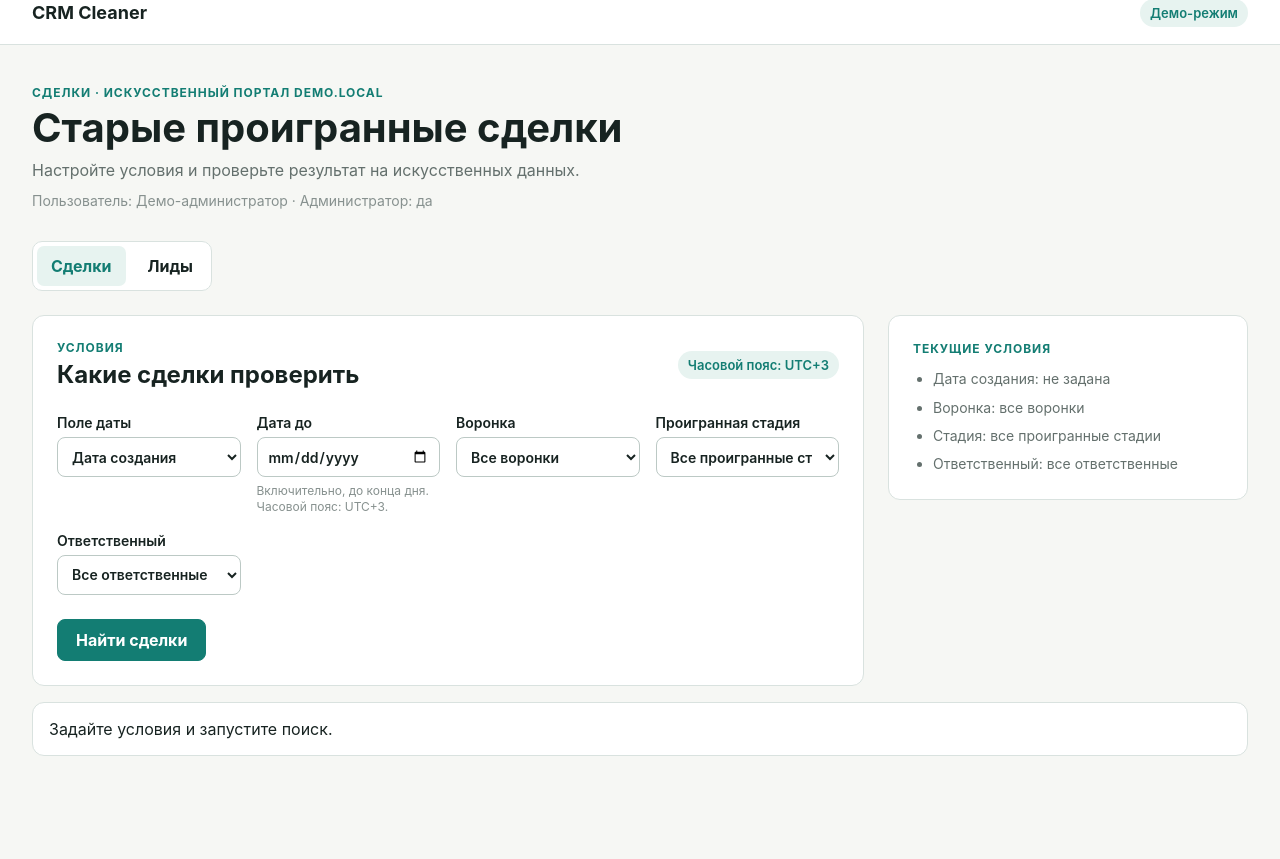
Scenario: local operation flow › search → exclusion → confirmation → result keeps excluded deal
The image size is (1280, 859).
Type "2026-01-31" into the date field labelled "Дата до" at (348, 457), box [256,437,440,477]
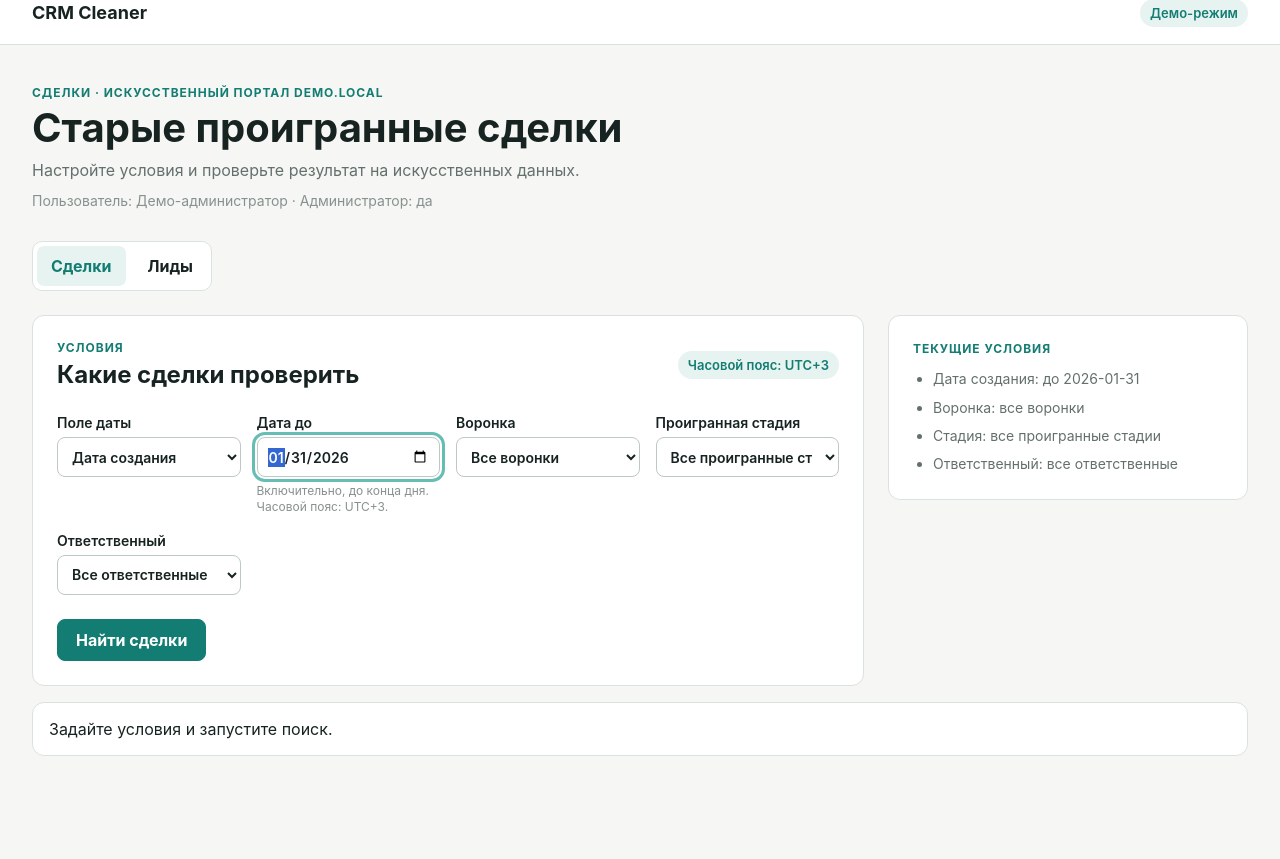
Click the button "Найти сделки" at (132, 640), box [57,619,206,661]
(page scrolled)
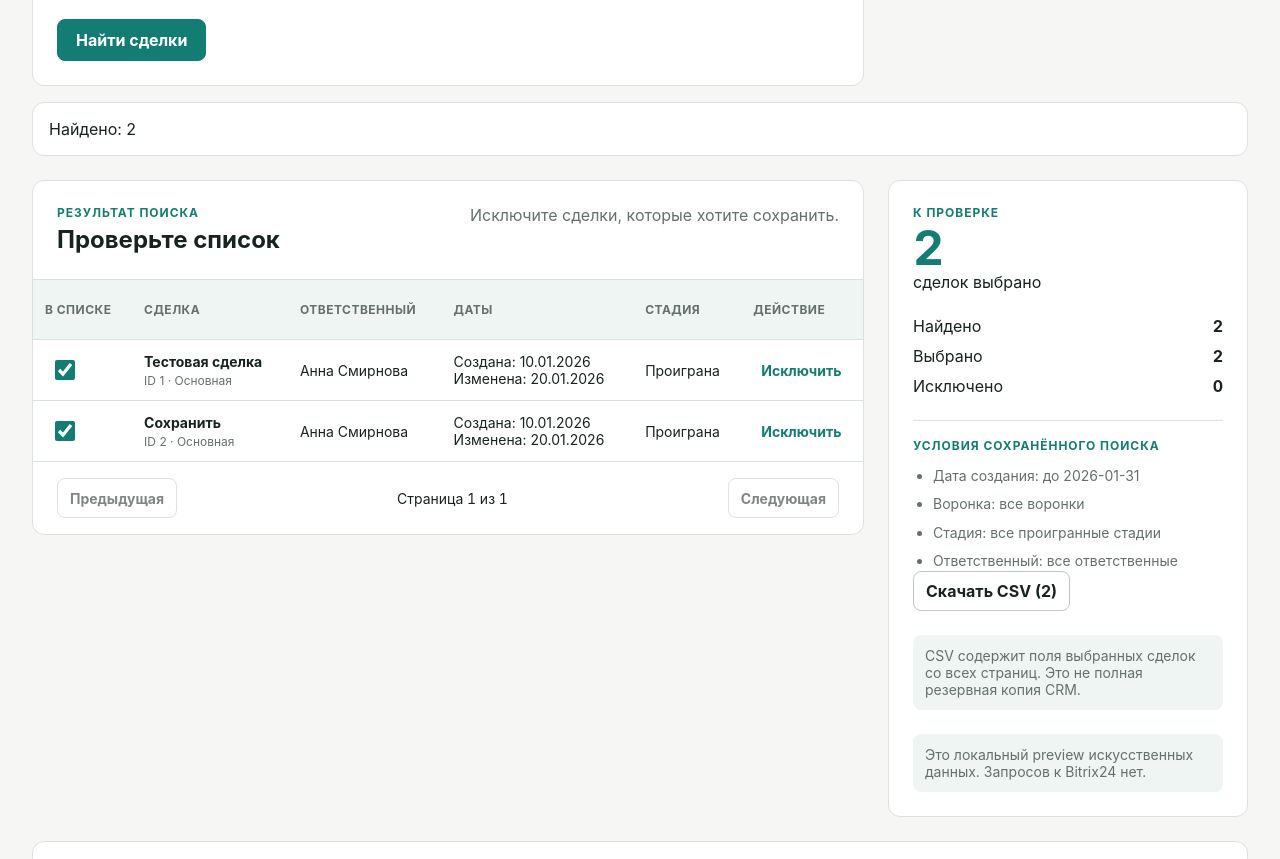
Click the button with aria-label "Исключить Сохранить" at (801, 431), box [753,411,849,451]
(page scrolled)
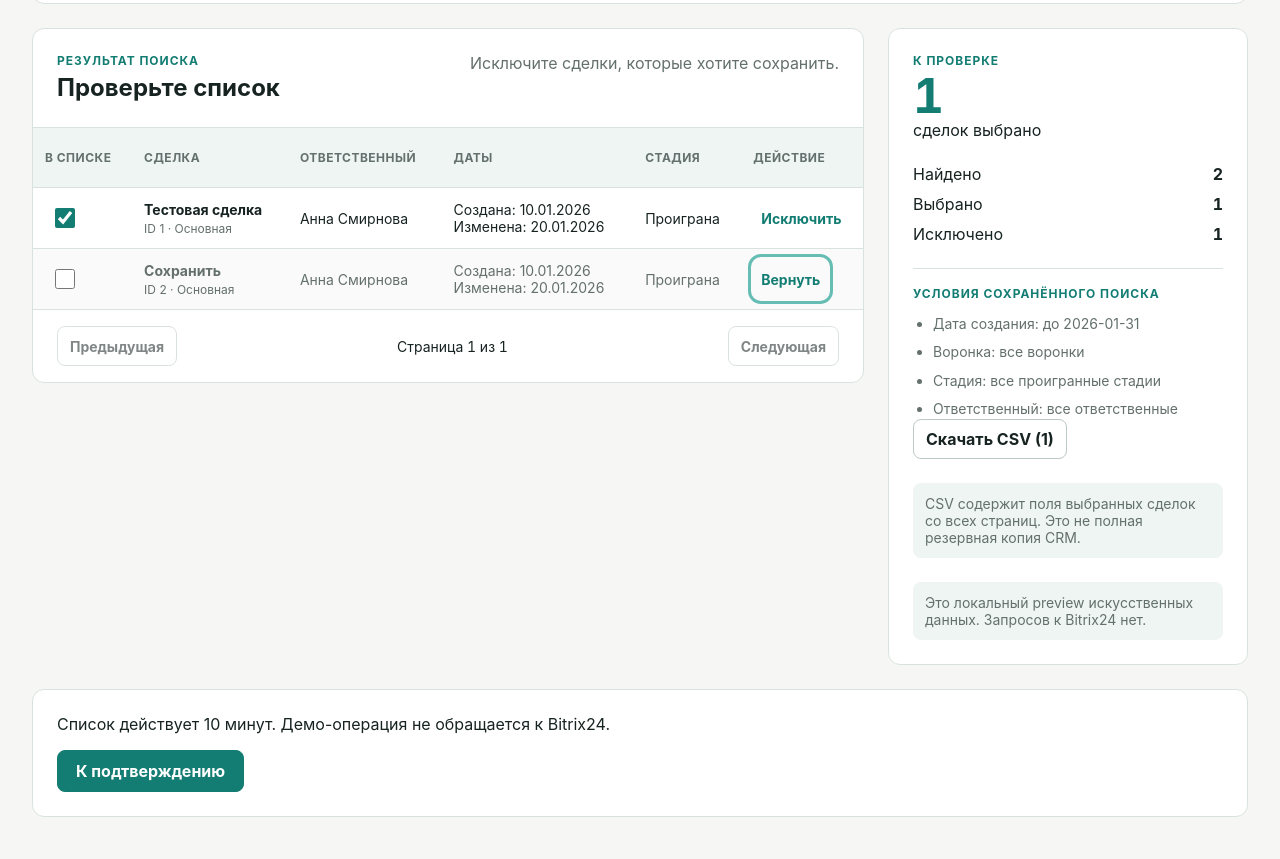
Click the button "К подтверждению" at (151, 771), box [57,750,244,792]
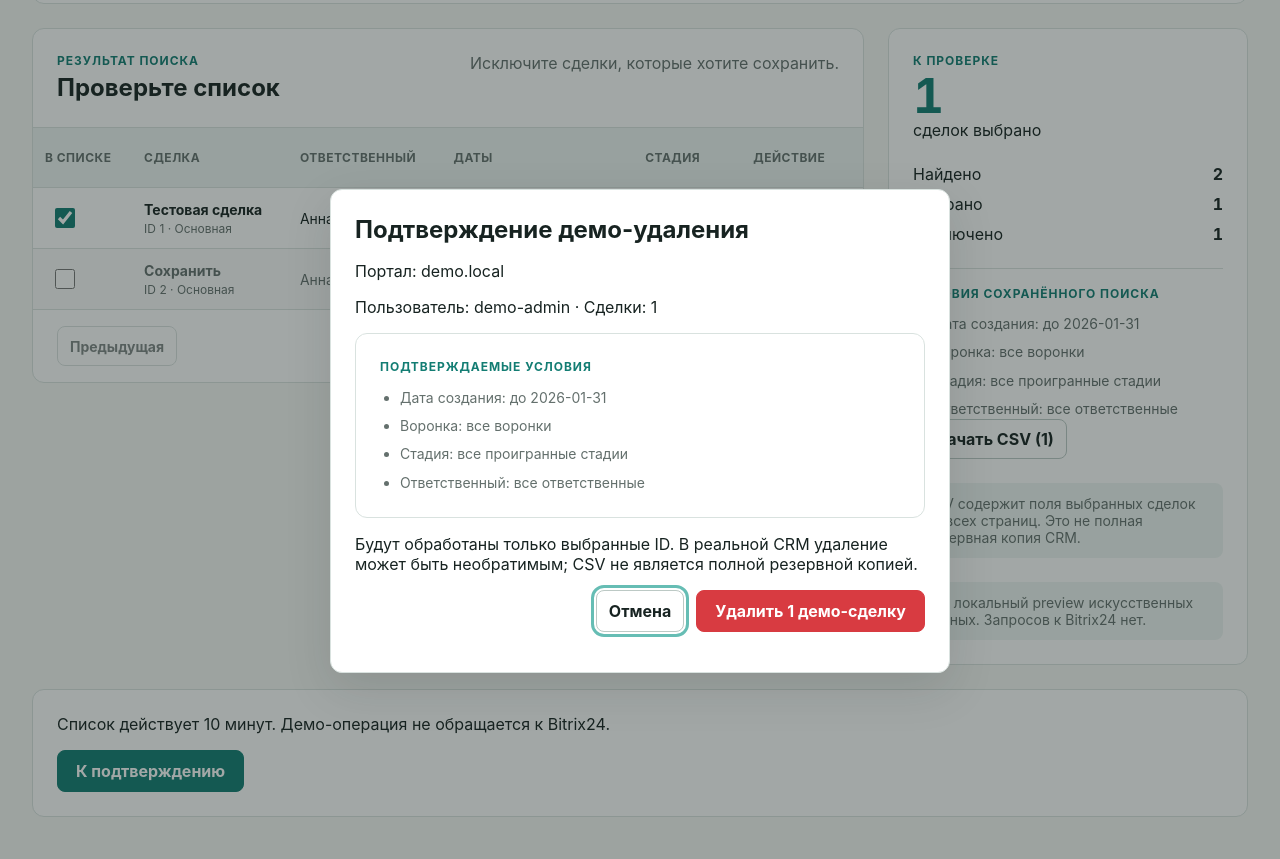
Click the button "Удалить 1 демо-сделку" at (811, 611), box [696,590,925,632]
(page scrolled)
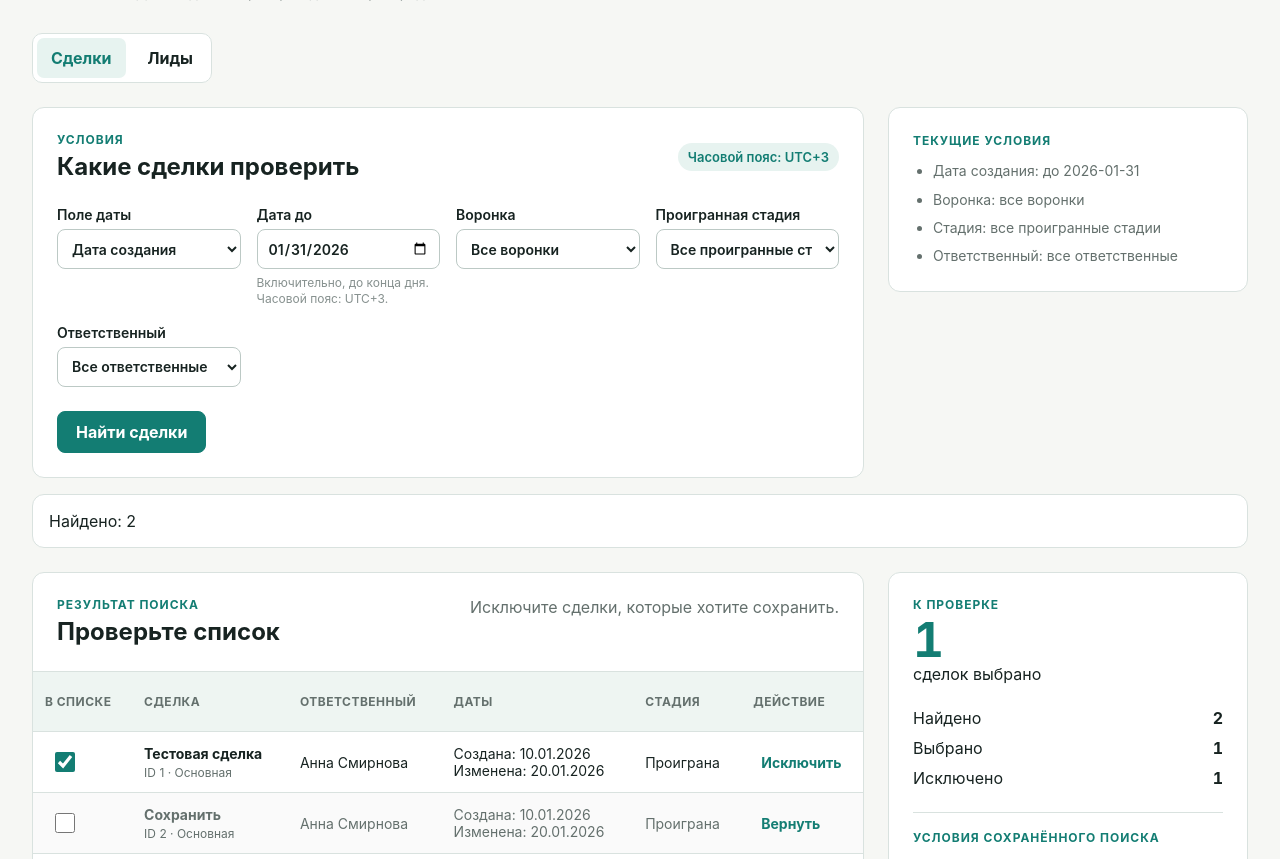
Click the button "Найти сделки" at (132, 432), box [57,411,206,453]
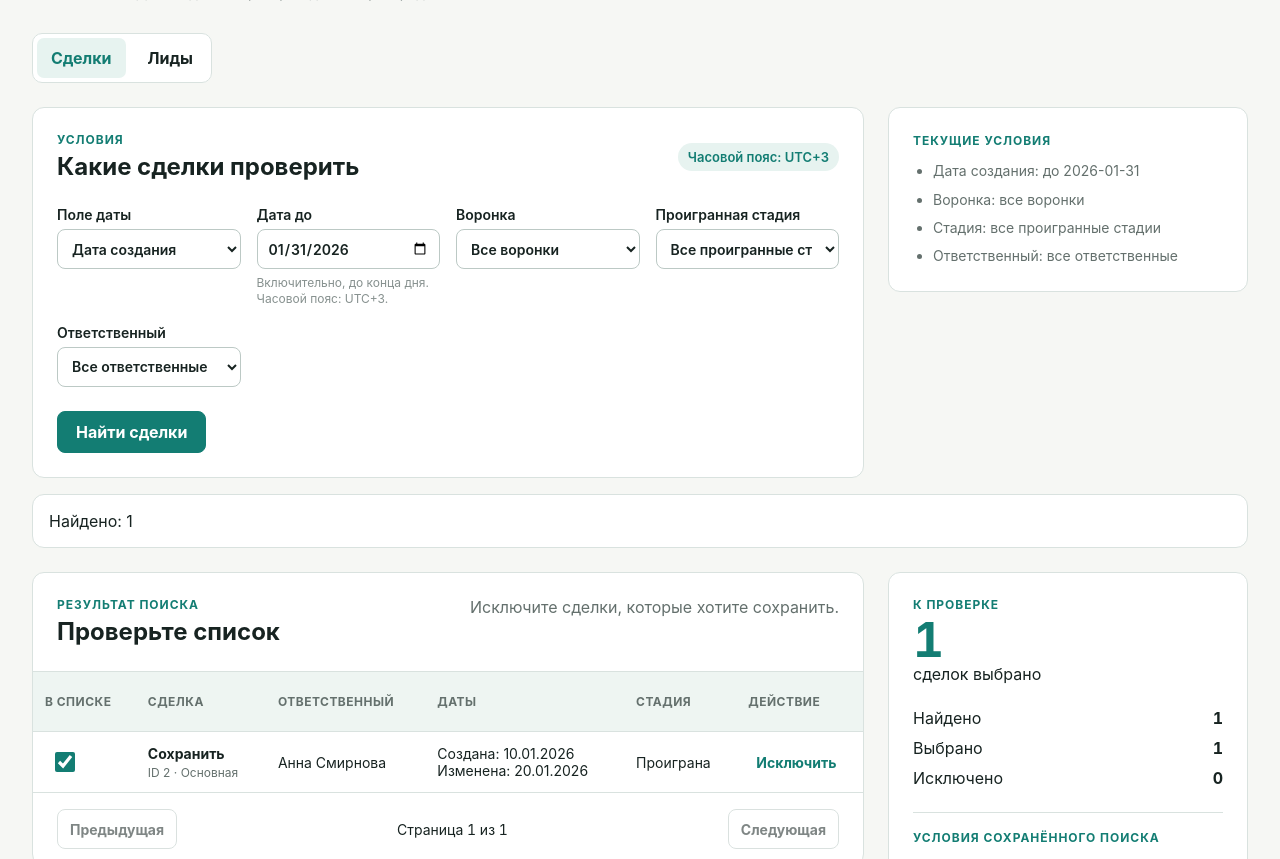
Check: the text "Сохранить" is shown, box [148,745,225,762]
Check: the element "Найдено 1" is shown, box [913,708,1223,728]
